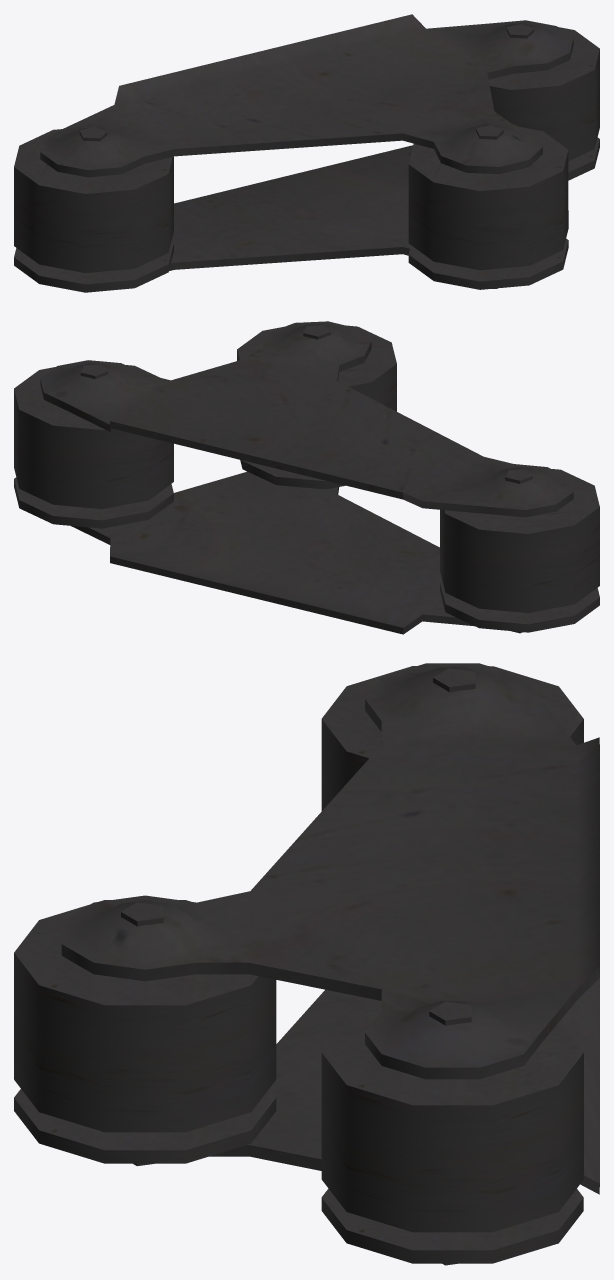
File: SM_EN_1002_chuangcang06.FBX
The picture shows the model from 3 angles, top to bottom: view 1: azimuth 30°, elevation 25°; view 2: azimuth 150°, elevation 25°; view 3: azimuth 270°, elevation 25°; orthographic projection. The views are drawn at different scales.
Parts seen in each view (by area): view 1: SM_EN_1002_chuangcang06; view 2: SM_EN_1002_chuangcang06; view 3: SM_EN_1002_chuangcang06.
Boxes of the visible parts, left/top/right/bottom form: SM_EN_1002_chuangcang06: left=14, top=14, right=599, bottom=292; SM_EN_1002_chuangcang06: left=14, top=321, right=599, bottom=634; SM_EN_1002_chuangcang06: left=14, top=663, right=599, bottom=1265.
Size of the model in its own units: 43.45 by 11.31 by 24.51.
